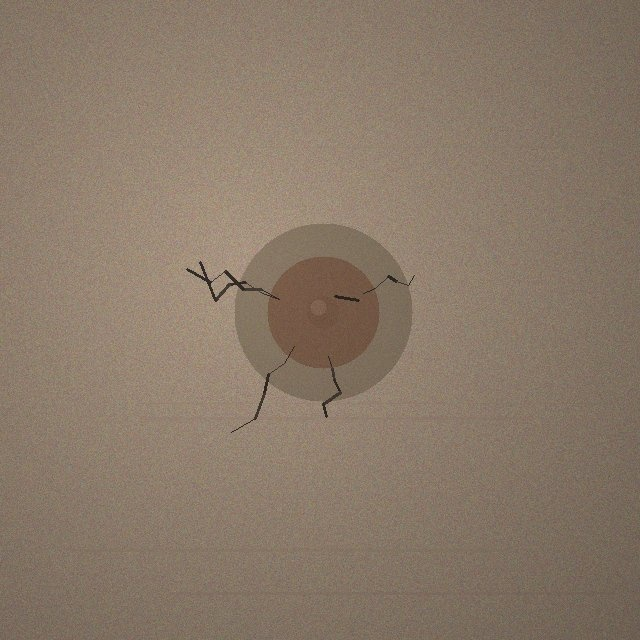crack: (234, 223, 412, 401)
